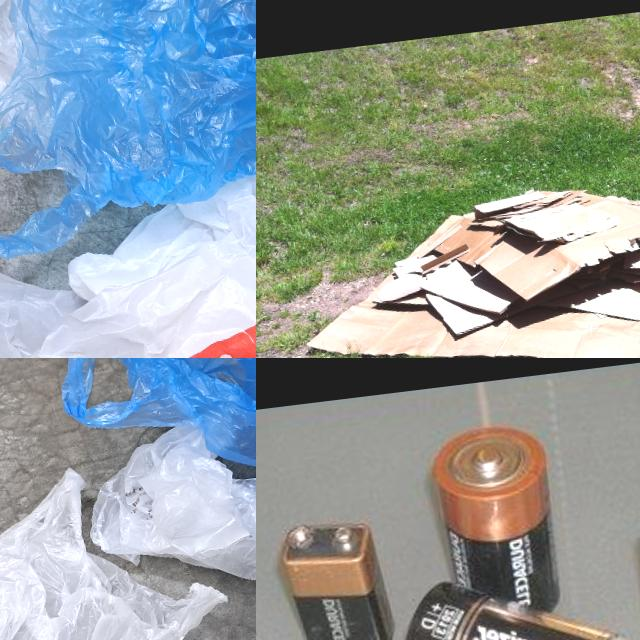bateria: (426, 419, 566, 626), (390, 559, 640, 640), (273, 515, 399, 640)
papelão: (292, 159, 640, 358)
sacola plástica: (0, 0, 256, 265), (0, 163, 256, 358), (0, 453, 250, 640), (74, 398, 256, 621), (49, 358, 256, 512)
